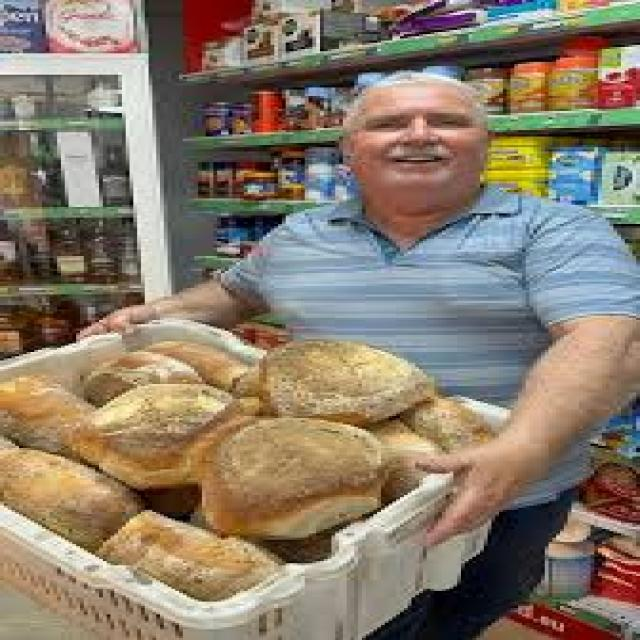Maltese-Bread: (198, 418, 385, 538), (80, 382, 240, 486), (248, 339, 434, 425), (99, 510, 274, 599), (0, 448, 141, 550)
